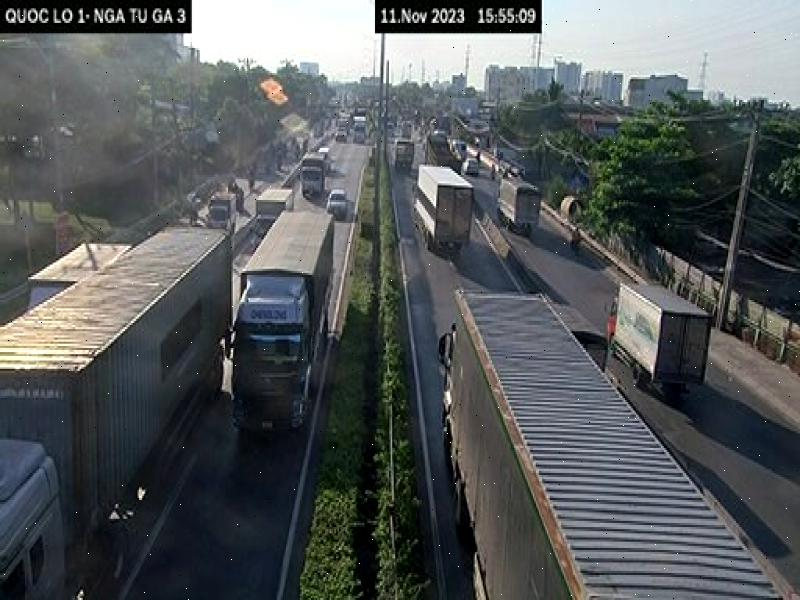truck: (437, 290, 800, 600), (0, 227, 234, 600), (230, 209, 335, 440), (606, 281, 712, 405), (417, 162, 475, 255), (496, 177, 543, 237), (252, 188, 293, 246)
